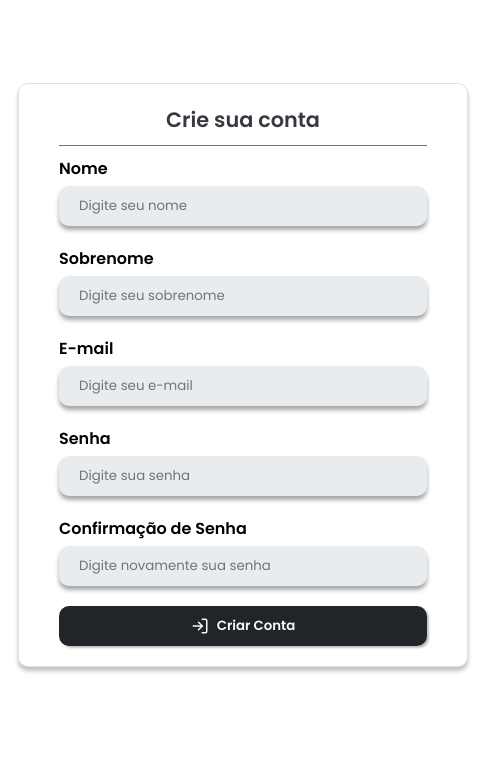
Test: Sign Up › Should show error when user type a invalid email
Type "INVALID_EMAIL" into the field with placeholder "Digite seu e-mail" at (243, 386), box [59, 366, 427, 406]
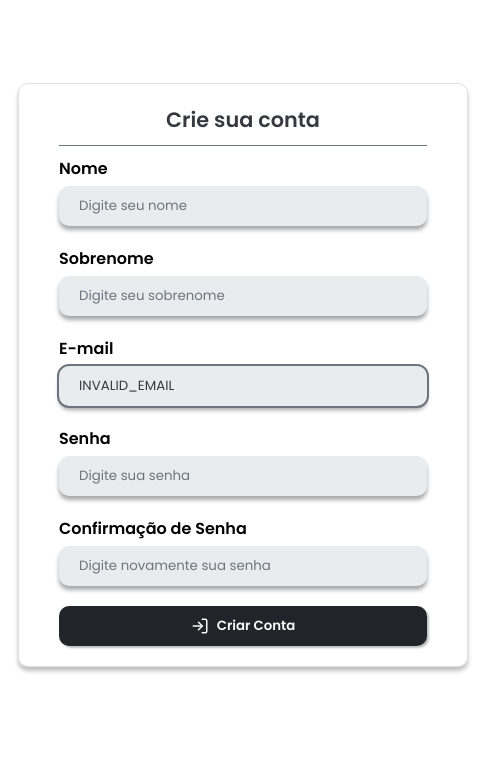
Click the button "Criar Conta" at (243, 626), box [59, 606, 427, 646]
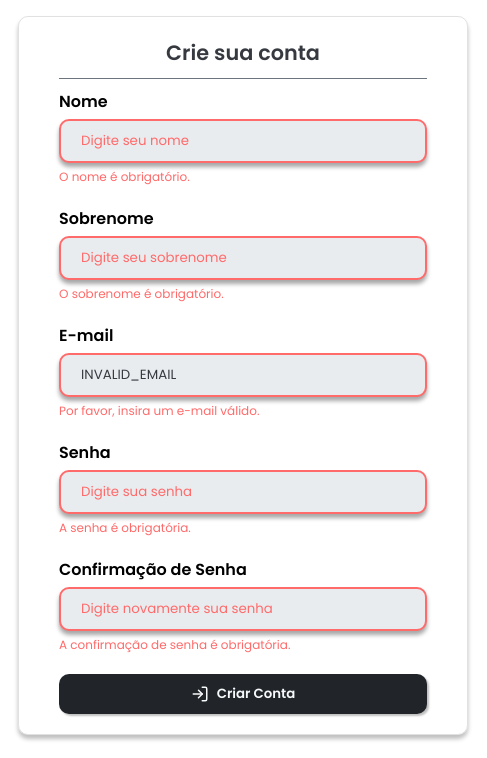
Result: the text "Por favor, insira um e-mail válido." is shown at [59, 402, 259, 418]
